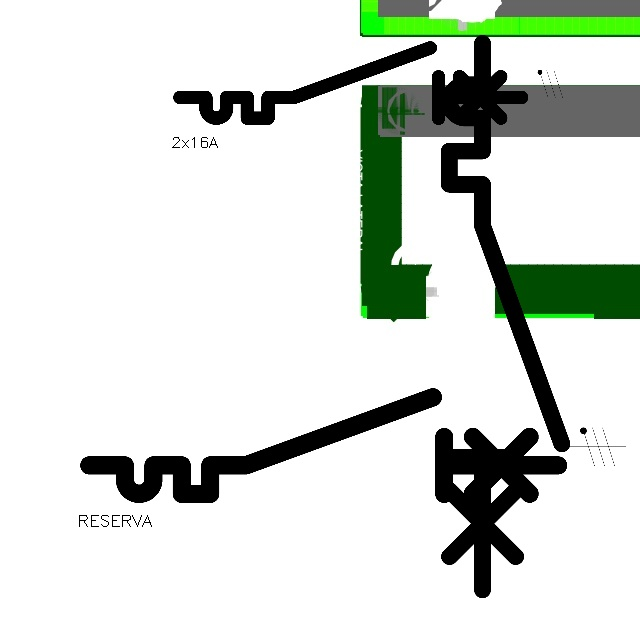interruptor_termomagnetico: (435, 29, 576, 604), (77, 385, 570, 506), (171, 39, 530, 127)
